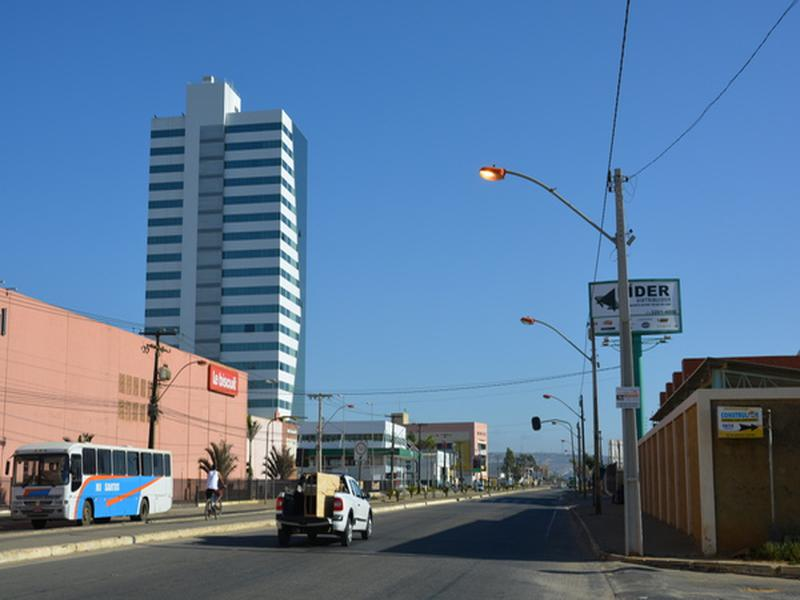IP: (470, 156, 600, 232), (515, 303, 585, 355), (166, 355, 211, 398)
